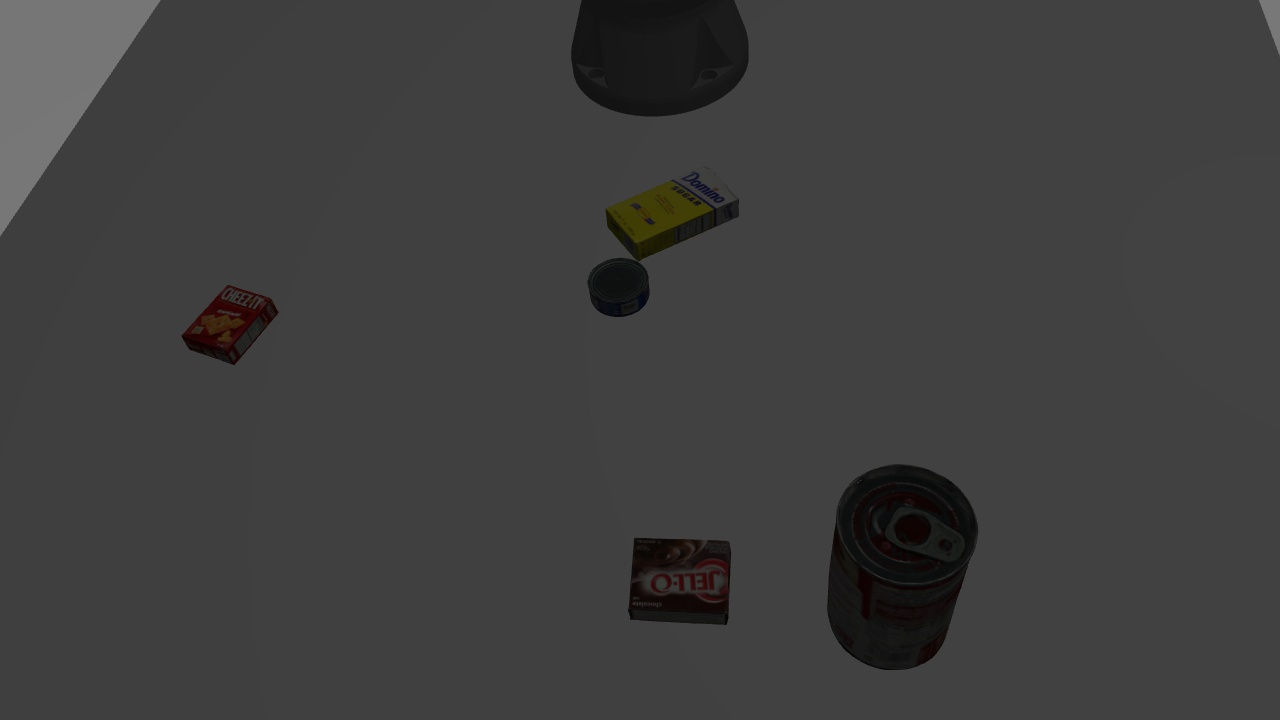cracker_box: (182, 276, 277, 367)
pudding_box: (624, 533, 734, 627)
sugar_box: (600, 155, 748, 258)
tomato_soup_can: (824, 463, 970, 674)
tuna_fish_can: (581, 254, 650, 323)
